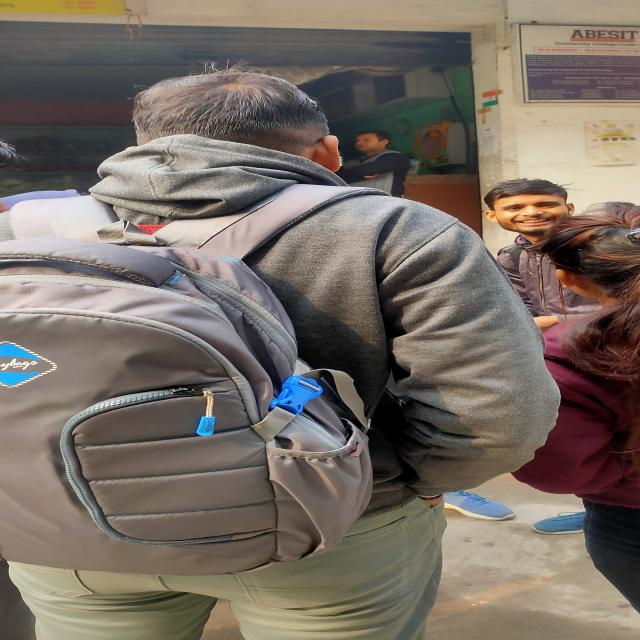unsafe: (4, 80, 540, 640), (496, 170, 588, 312)
